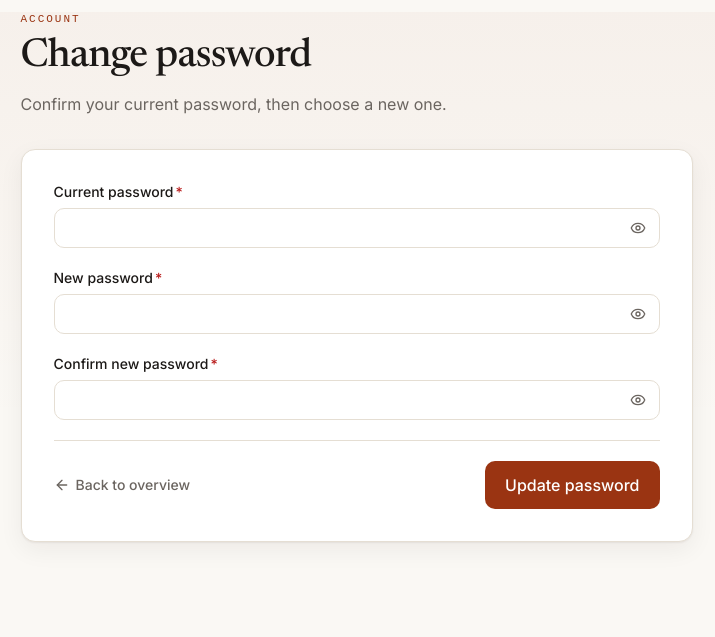
Test case: ChangePassword › sends only the contract fields and reports success
Type "old-password" into the password field labelled "Current password*" at (356, 228), box [54,208,660,248]
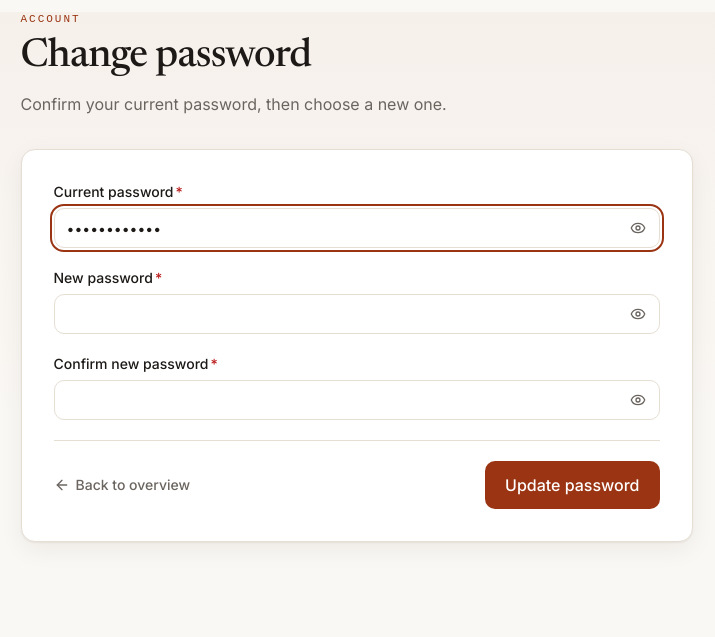
Type "new-password" into the password field labelled "New password*" at (356, 314), box [54,294,660,334]
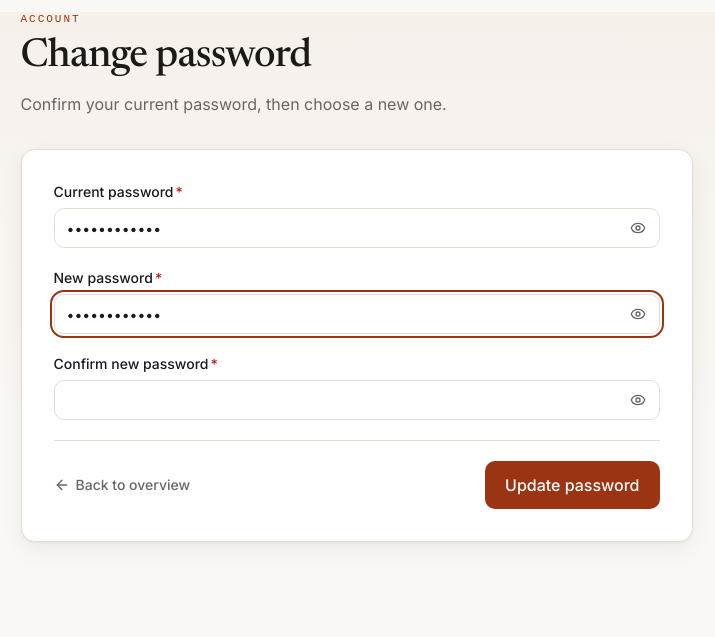
Type "new-password" into the password field labelled "Confirm new password*" at (356, 400), box [54,380,660,420]
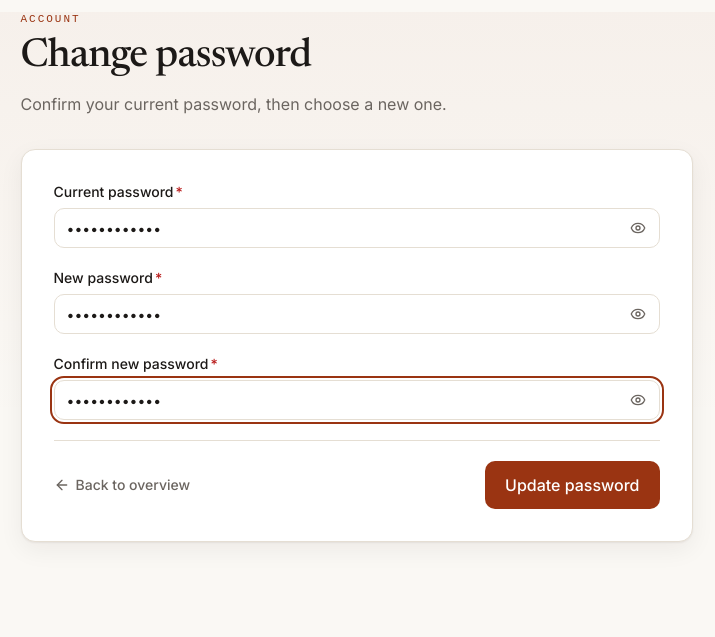
Click the button "Update password" at (572, 485), box [485,461,660,509]
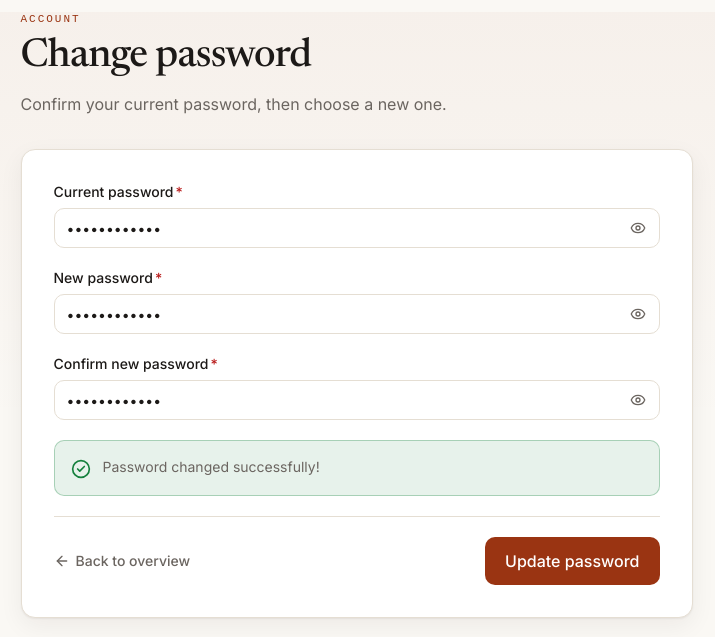
Expected: the message reads "Password changed successfully!", [102,458,320,475]
